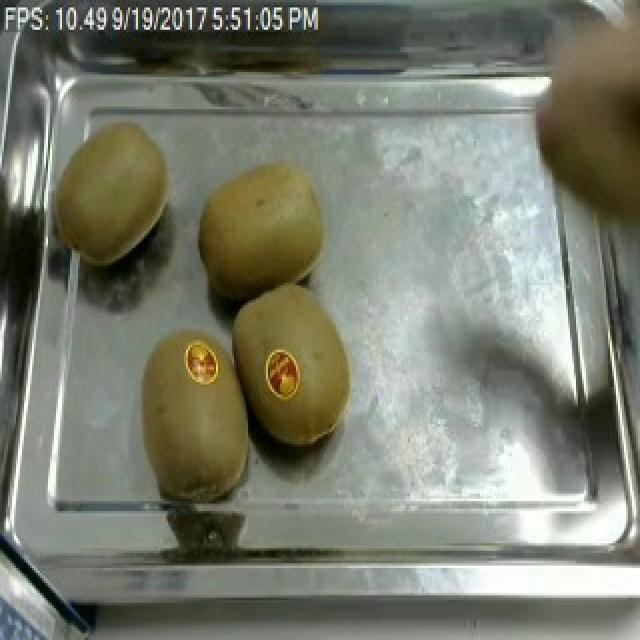Fruit: (520, 0, 640, 228), (222, 275, 364, 454), (128, 323, 264, 501), (192, 151, 340, 305), (44, 111, 180, 278)
